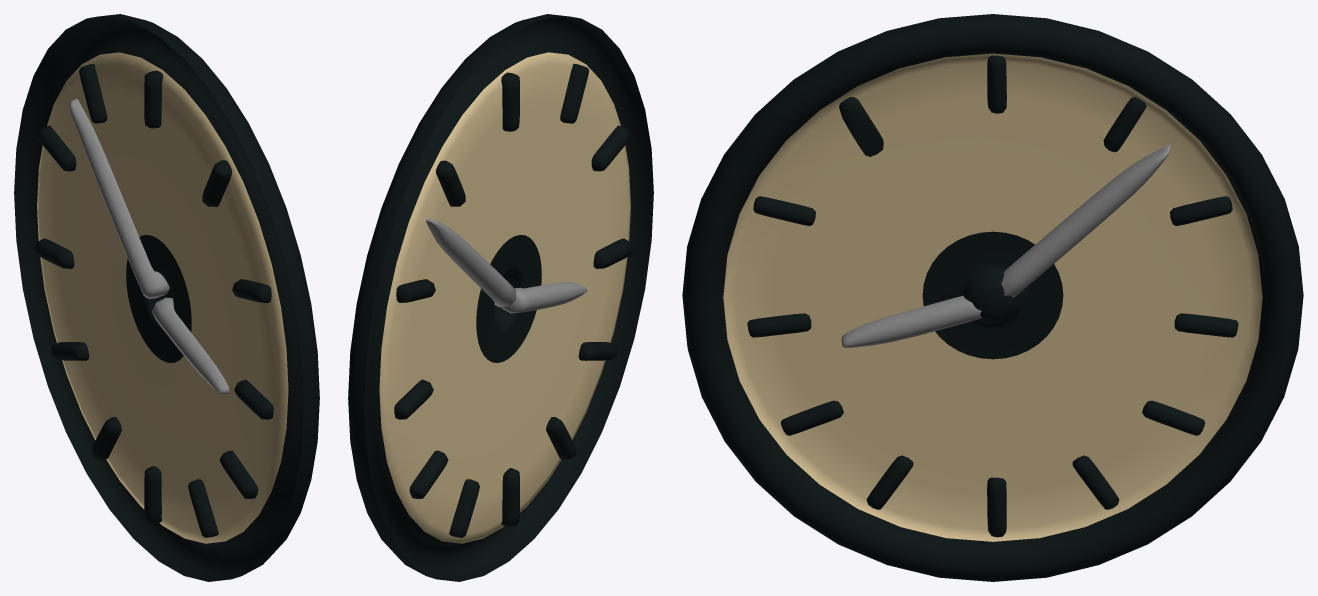
File: Relogio.fbx
3 renders of one model, left to right at view 1: azimuth 30°, elevation 25°; view 2: azimuth 150°, elevation 25°; view 3: azimuth 270°, elevation 25°, orthographic. The views are drawn at different scales.
Parts seen in each view (by area): view 1: Circle.007, Cube.025, Cube.026, Cube.071, Cube.081, Cube.069, Cube.070, Cube.080, Cube.073, Cube.079, Cube.075, Cube.078 (+3 smaller); view 2: Circle.007, Cube.025, Cube.026, Cube.069, Cube.070, Cube.076, Cube.074, Cube.077, Cube.078, Cube.071, Cube.075, Cube.081 (+3 smaller); view 3: Circle.007, Cube.025, Cube.026, Cube.072, Cube.075, Cube.079, Cube.077, Cube.080, Cube.073, Cube.078, Cube.070, Cube.081 (+3 smaller).
Part boxes in pixels (x1,y1,x2,y2): Circle.007: (14,14,319,581); Cube.025: (69,98,169,298); Cube.026: (152,297,229,394); Cube.071: (79,63,107,123); Cube.081: (188,479,218,537); Cube.069: (144,70,163,128); Cube.070: (144,466,161,523); Cube.080: (219,450,258,498); Cube.073: (37,125,76,171); Cube.079: (234,379,273,419); Cube.075: (34,238,74,268); Cube.078: (232,279,271,302); Circle.007: (348,14,653,581); Cube.025: (426,218,516,306); Cube.026: (501,282,587,313); Cube.069: (501,72,519,131); Cube.070: (501,468,519,526); Cube.076: (560,69,588,123); Cube.074: (449,479,479,537); Cube.077: (409,450,448,498); Cube.078: (591,125,630,171); Cube.071: (435,160,465,206); Cube.075: (394,379,433,419); Cube.081: (546,417,576,459); Circle.007: (682,14,1303,581); Cube.025: (1001,145,1170,297); Cube.026: (841,296,981,347); Cube.072: (839,97,883,156); Cube.075: (1174,313,1238,337); Cube.079: (747,313,811,337); Cube.077: (1142,400,1205,435); Cube.080: (780,400,843,435); Cube.073: (1170,196,1232,225); Cube.078: (753,196,815,225); Cube.070: (987,477,1006,537); Cube.081: (866,455,913,509).
Bounding box in the file's own units: 29.1 × 429 × 429.
